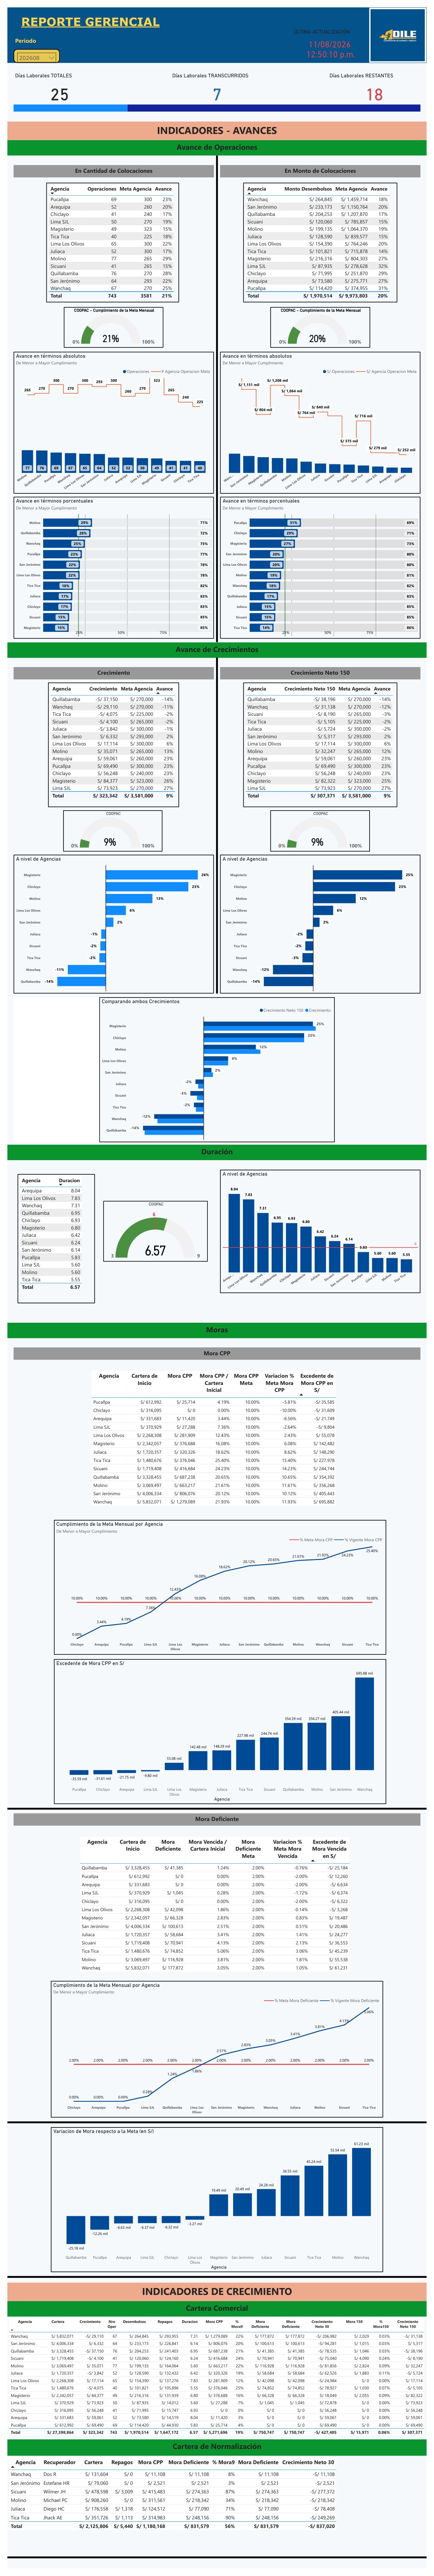

What the dashboard file says about the page in this screenshot:
{"tool":"powerbi","page":{"name":"Reporte Gerencia","canvas":[1360,8300],"ordinal":0},"visuals":[{"type":"textbox","box":[0,0,1360,180],"z":0,"group":"g1"},{"type":"group","id":"g1","title":"Group 1","box":[0,0,1360,180],"z":0},{"type":"image","box":[1173.3,0,186.7,180],"z":1000,"group":"g1"},{"type":"slicer","fields":{"Values":["dim_calendario.Periodo"]},"box":[20,135.5,150,44.5],"z":1000},{"type":"textbox","box":[20,90,150,45.5],"z":2000},{"type":"card","title":"Días Laborales TRANSCURRIDOS","fields":{"Values":["medidas.Días Transcurridos"]},"box":[530,210.9,300,110],"z":3000},{"type":"card","title":"Días Laborales RESTANTES","fields":{"Values":["medidas.Días Restantes"]},"box":[1040,210.9,300,110],"z":4000},{"type":"card","title":"Días Laborales TOTALES","fields":{"Values":["medidas.Días Totales"]},"box":[20,210.9,300,110],"z":5000},{"type":"hundredPercentStackedBarChart","title":"Avance y Restante de Días","fields":{"Y":["medidas.Días Transcurridos","medidas.Días Restantes"]},"box":[20,270.9,1320,99.1],"z":6000},{"type":"textbox","box":[0,7374.3,1360,60],"z":7000},{"type":"tableEx","fields":{"Values":["dim_agencia.Agencia","medidas.Cartera","medidas.Crecimiento","medidas.Operaciones","medidas.Desembolsos","medidas.Repagos","medidas.Duracion","medidas.Mora9","medidas.% Mora9","medidas.Mora31","medidas.Mora31","medidas.Crecimiento Neto"]},"box":[0,7484,1360,398],"z":8000},{"type":"textbox","box":[0,430,1360,50],"z":9000},{"type":"gauge","title":"COOPAC - Cumplimiento de la Meta Mensual","fields":{"Y":["medidas.Avance Colocacion Agencia"]},"box":[183,971,323,132],"z":10000},{"type":"hundredPercentStackedBarChart","title":"Avance en términos porcentuales","fields":{"Category":["dim_agencia.Agencia"],"Y":["medidas.Avance Colocacion Agencia","medidas.AvanceFaltante Colocacion Agencia"]},"box":[20,1586,650,460],"z":11000},{"type":"lineClusteredColumnComboChart","title":"Avance en términos absolutos","fields":{"Category":["dim_agencia.Agencia"],"Y":["medidas.Operaciones"],"Y2":["medidas.Agencia Operacion Meta"]},"box":[20,1116,650,460],"z":12000},{"type":"textbox","box":[20,510.8,650,40],"z":13000},{"type":"textbox","box":[690,510.8,650,40],"z":14000},{"type":"gauge","title":"COOPAC - Cumplimiento de la Meta Mensual","fields":{"Y":["medidas.S/ Agencia Operacion Avance Meta"]},"box":[853,971,324,132],"z":15000},{"type":"hundredPercentStackedBarChart","title":"Avance en términos porcentuales","fields":{"Category":["dim_agencia.Agencia"],"Y":["medidas.S/ Agencia Operacion Avance Meta","medidas.S/ Agencia Operacion AvanceFaltante Meta"]},"box":[690,1586,650,460],"z":16000},{"type":"lineClusteredColumnComboChart","title":"Avance en términos absolutos","fields":{"Category":["dim_agencia.Agencia"],"Y":["medidas.S/ Operaciones"],"Y2":["medidas.S/ Agencia Operacion Meta"]},"box":[690,1116,650,460],"z":17000},{"type":"clusteredBarChart","title":"A nivel de Agencias","fields":{"Category":["dim_agencia.Agencia"],"Y":["medidas.Agencia Crecimiento Avance"]},"box":[20,2746,650,450],"z":18000},{"type":"textbox","box":[0,3686.4,1360,50],"z":19000},{"type":"clusteredColumnChart","title":"A nivel de Agencias","fields":{"Category":["dim_agencia.Agencia"],"Y":["medidas.Duracion"]},"box":[690,3767.3,650,400],"z":20000},{"type":"gauge","title":"COOPAC","fields":{"TargetValue":["medidas.Coopac Duracion Meta"],"Y":["medidas.Duracion"]},"box":[311,3868,339,197],"z":21000},{"type":"gauge","title":"COOPAC","fields":{"Y":["medidas.Agencia Crecimiento Avance"]},"box":[181,2602,322,134],"z":22000},{"type":"textbox","box":[0,7434.3,1360,50],"z":23000},{"type":"textbox","box":[0,7882,1360,53],"z":24000},{"type":"tableEx","fields":{"Values":["dim_agencia.Agencia","dim_asesor.Asesor","medidas.Cartera","medidas.Repagos","medidas.Mora9","medidas.Mora31","medidas.% Mora9","medidas.Mora31","medidas.Crecimiento Neto"]},"box":[0,7935,1350,299],"z":25000},{"type":"textbox","box":[0,370,1360,60],"z":26000},{"type":"tableEx","title":"A nivel de Agencias","fields":{"Values":["dim_agencia.Agencia","medidas.Duracion"]},"box":[33,3781,251,419],"z":27000},{"type":"tableEx","title":"A nivel de Agencias","fields":{"Values":["dim_agencia.Agencia","medidas.Crecimiento","medidas.Agencia Crecimiento Meta","medidas.Agencia Crecimiento Avance"]},"box":[132,2188,425,404],"z":28000},{"type":"tableEx","title":"Avance de la Meta Mensual por Agencia","fields":{"Values":["dim_agencia.Agencia","medidas.Operaciones","medidas.# Agencia Operacion Meta","medidas.# Agencia Operacion Avance Meta"]},"box":[126,568,431,388],"z":29000},{"type":"tableEx","title":"Avance de la Meta Mensual por Agencia","fields":{"Values":["dim_agencia.Agencia","medidas.S/ Operaciones","medidas.S/ Agencia Operacion Meta","medidas.S/ Agencia Operacion Avance Meta"]},"box":[765,568,500,388],"z":30000},{"type":"clusteredBarChart","title":"A nivel de Agencias","fields":{"Category":["dim_agencia.Agencia"],"Y":["medidas.Agencia Crecimiento Neto 150 Avance"]},"box":[690,2746,650,450],"z":31000},{"type":"textbox","box":[0,2057.5,1360,50],"z":32000},{"type":"gauge","title":"COOPAC","fields":{"Y":["medidas.Agencia Crecimiento Neto 150 Avance"]},"box":[853,2602,323,134],"z":33000},{"type":"tableEx","title":"A nivel de Agencias","fields":{"Values":["dim_agencia.Agencia","medidas.Crecimiento Neto 150","medidas.Agencia Crecimiento Meta","medidas.Agencia Crecimiento Neto 150 Avance"]},"box":[765,2188,500,404],"z":34000},{"type":"clusteredBarChart","title":"Comparando ambos Crecimientos","fields":{"Category":["dim_agencia.Agencia"],"Y":["medidas.Agencia Crecimiento Neto 150 Avance","medidas.Agencia Crecimiento Avance"]},"box":[298,3208,764,470],"z":35000},{"type":"textbox","box":[20,2138.2,650,40],"z":36000},{"type":"textbox","box":[690,2138.2,650,40],"z":37000},{"type":"shape","box":[0,8249.4,1360,30.8],"z":38000},{"type":"shape","box":[670,480,20,1577.3],"z":39000},{"type":"shape","box":[670,2107,20,1089],"z":40000},{"type":"textbox","box":[0,4262.5,1360,50],"z":41000},{"type":"textbox","box":[20,4343.3,1320,40],"z":42000},{"type":"tableEx","fields":{"Values":["dim_agencia.Agencia","medidas.Cartera Inicial","medidas.Mora 9","medidas.Mora CPP / Cartera Inicial","med_indicacores_supervision.Mora CPP Meta Agencia","med_indicacores_supervision.Variacion % Meta Mora CPP Agencia","med_indicacores_supervision.Variacion S/ Meta Mora CPP Agencia"]},"box":[268,4414,825,454],"z":43000},{"type":"clusteredColumnChart","title":"Excedente de Mora CPP en S/","fields":{"Category":["dim_agencia.Agencia"],"Y":["med_indicacores_supervision.Variacion S/ Meta Mora CPP Agencia"]},"box":[150.8,5352.5,1078.3,470],"z":44000},{"type":"areaChart","title":"Cumplimiento de la Meta Mensual por Agencia","fields":{"Category":["dim_agencia.Agencia"],"Y":["med_indicacores_supervision.Mora CPP Meta Agencia","medidas.Mora CPP / Cartera Inicial"]},"box":[151,4902,1078,437],"z":45000},{"type":"shape","box":[0,5822.5,1360,30.8],"z":46000},{"type":"textbox","box":[20,5853.3,1320,40],"z":47000},{"type":"shape","box":[0,6839.2,1360,30.8],"z":48000},{"type":"tableEx","fields":{"Values":["dim_agencia.Agencia","medidas.Cartera Inicial","medidas.Mora Deficiente","medidas.Mora Vencida / Cartera Inicial","med_indicacores_supervision.Mora Deficiente Meta Agencia","med_indicacores_supervision.Variacion % Meta Mora Vencida Agencia","med_indicacores_supervision.Variacion S/ Meta Mora Vencida Agencia"]},"box":[230,5924,900,456],"z":49000},{"type":"clusteredColumnChart","title":"Variacion de Mora respecto a la Meta (en S/)","fields":{"Category":["dim_agencia.Agencia"],"Y":["med_indicacores_supervision.Variacion S/ Meta Mora Vencida Agencia"]},"box":[140.8,6870,1078.3,470],"z":50000},{"type":"areaChart","title":"Cumplimiento de la Meta Mensual por Agencia","fields":{"Category":["dim_agencia.Agencia"],"Y":["med_indicacores_supervision.Mora Deficiente Meta Agencia","medidas.Mora Vencida / Cartera Inicial"]},"box":[141,6396,1078,443],"z":51000},{"type":"shape","box":[0,7340,1360,30.8],"z":52000},{"type":"textbox","box":[20,3208,278,470],"z":53000},{"type":"card","title":"ÚLTIMA ACTUALIZACIÓN","fields":{"Values":["Min(ultima_actualizacion.UltimaActualizacion)"]},"box":[924,69,249,111],"z":54000}]}

Visuals, with their boxes in screenshot pixels (x1, y1, x2, y2), scaled from the page's 1360x8300 canvas onto the 434x2576 screenshot:
textbox: region(0, 0, 434, 56)
"Group 1" group: region(0, 0, 434, 56)
image: region(374, 0, 434, 56)
slicer - dim_calendario.Periodo: region(6, 42, 54, 56)
textbox: region(6, 28, 54, 42)
"Días Laborales TRANSCURRIDOS" card: region(169, 65, 265, 100)
"Días Laborales RESTANTES" card: region(332, 65, 428, 100)
"Días Laborales TOTALES" card: region(6, 65, 102, 100)
"Avance y Restante de Días" hundredPercentStackedBarChart: region(6, 84, 428, 115)
textbox: region(0, 2289, 434, 2307)
tableEx - dim_agencia.Agencia x medidas.Cartera: region(0, 2323, 434, 2446)
textbox: region(0, 133, 434, 149)
"COOPAC - Cumplimiento de la Meta Mensual" gauge: region(59, 301, 161, 342)
"Avance en términos porcentuales" hundredPercentStackedBarChart: region(6, 492, 214, 635)
"Avance en términos absolutos" lineClusteredColumnComboChart: region(6, 346, 214, 489)
textbox: region(6, 159, 214, 171)
textbox: region(220, 159, 428, 171)
"COOPAC - Cumplimiento de la Meta Mensual" gauge: region(272, 301, 375, 342)
"Avance en términos porcentuales" hundredPercentStackedBarChart: region(220, 492, 428, 635)
"Avance en términos absolutos" lineClusteredColumnComboChart: region(220, 346, 428, 489)
"A nivel de Agencias" clusteredBarChart: region(6, 852, 214, 992)
textbox: region(0, 1144, 434, 1159)
"A nivel de Agencias" clusteredColumnChart: region(220, 1169, 428, 1293)
"COOPAC" gauge: region(99, 1201, 207, 1262)
"COOPAC" gauge: region(58, 808, 160, 849)
textbox: region(0, 2307, 434, 2323)
textbox: region(0, 2446, 434, 2463)
tableEx - dim_agencia.Agencia x dim_asesor.Asesor: region(0, 2463, 431, 2556)
textbox: region(0, 115, 434, 133)
"A nivel de Agencias" tableEx: region(11, 1174, 91, 1304)
"A nivel de Agencias" tableEx: region(42, 679, 178, 804)
"Avance de la Meta Mensual por Agencia" tableEx: region(40, 176, 178, 297)
"Avance de la Meta Mensual por Agencia" tableEx: region(244, 176, 404, 297)
"A nivel de Agencias" clusteredBarChart: region(220, 852, 428, 992)
textbox: region(0, 638, 434, 654)
"COOPAC" gauge: region(272, 808, 375, 849)
"A nivel de Agencias" tableEx: region(244, 679, 404, 804)
"Comparando ambos Crecimientos" clusteredBarChart: region(95, 996, 339, 1141)
textbox: region(6, 664, 214, 676)
textbox: region(220, 664, 428, 676)
shape: region(0, 2560, 434, 2570)
shape: region(214, 149, 220, 638)
shape: region(214, 654, 220, 992)
textbox: region(0, 1323, 434, 1339)
textbox: region(6, 1348, 428, 1361)
tableEx - dim_agencia.Agencia x medidas.Cartera Inicial: region(85, 1370, 349, 1511)
"Excedente de Mora CPP en S/" clusteredColumnChart: region(48, 1661, 392, 1807)
"Cumplimiento de la Meta Mensual por Agencia" areaChart: region(48, 1522, 392, 1657)
shape: region(0, 1807, 434, 1817)
textbox: region(6, 1817, 428, 1829)
shape: region(0, 2122, 434, 2132)
tableEx - dim_agencia.Agencia x medidas.Cartera Inicial: region(73, 1838, 361, 1980)
"Variacion de Mora respecto a la Meta (en S/)" clusteredColumnChart: region(45, 2132, 389, 2278)
"Cumplimiento de la Meta Mensual por Agencia" areaChart: region(45, 1985, 389, 2122)
shape: region(0, 2278, 434, 2288)
textbox: region(6, 996, 95, 1141)
"ÚLTIMA ACTUALIZACIÓN" card: region(295, 21, 374, 56)
